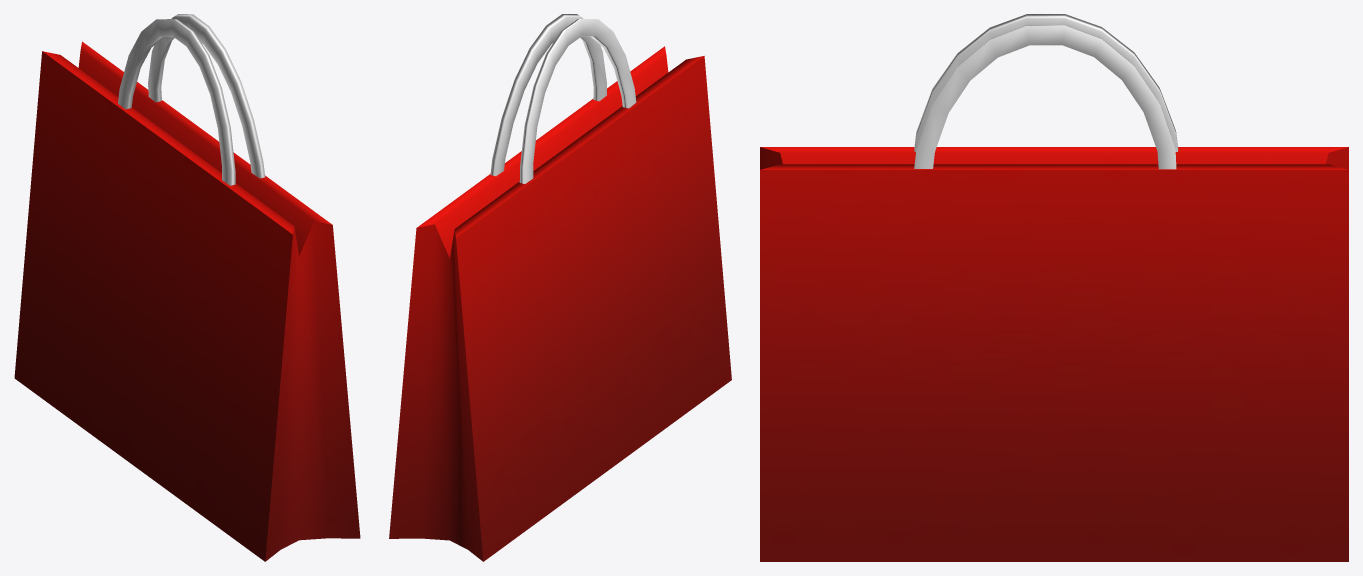
File: PRP_Bag_8.fbx
The picture shows the model from 3 angles, left to right: view 1: azimuth 30°, elevation 25°; view 2: azimuth 150°, elevation 25°; view 3: azimuth 270°, elevation 25°; orthographic projection. The views are drawn at different scales.
Parts seen in each view (by area): view 1: PRP_Bag_8; view 2: PRP_Bag_8; view 3: PRP_Bag_8.
Part boxes in pixels (x1,y1,x2,y2): PRP_Bag_8: (14,14,360,561); PRP_Bag_8: (389,14,731,561); PRP_Bag_8: (760,14,1348,561).
Size of the model in its own units: 15.58 by 68.56 by 71.05.
